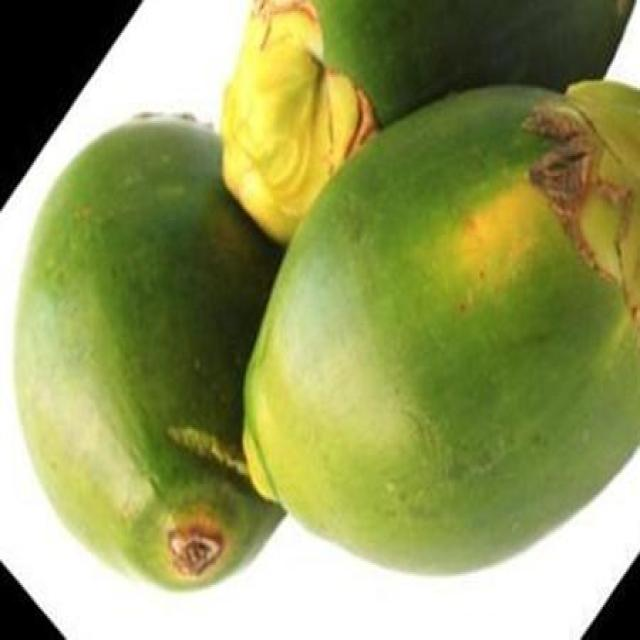good: (239, 81, 639, 581), (11, 119, 290, 596)
